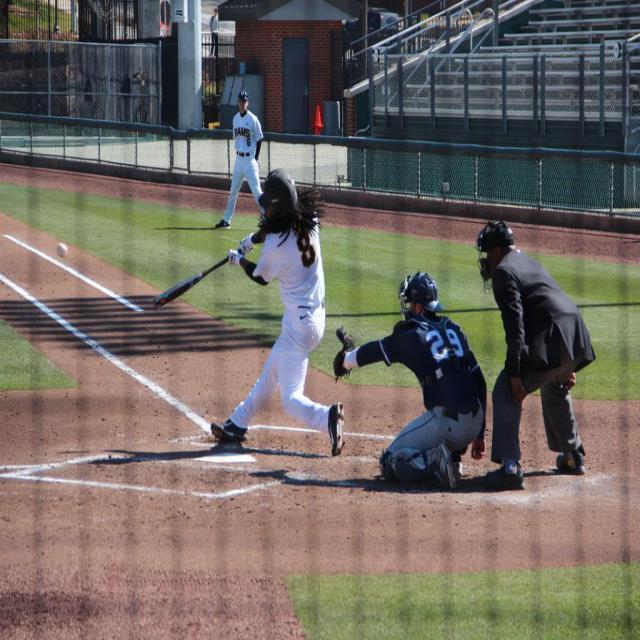baseball bat: (154, 258, 228, 308)
sports ball: (56, 244, 70, 258)
